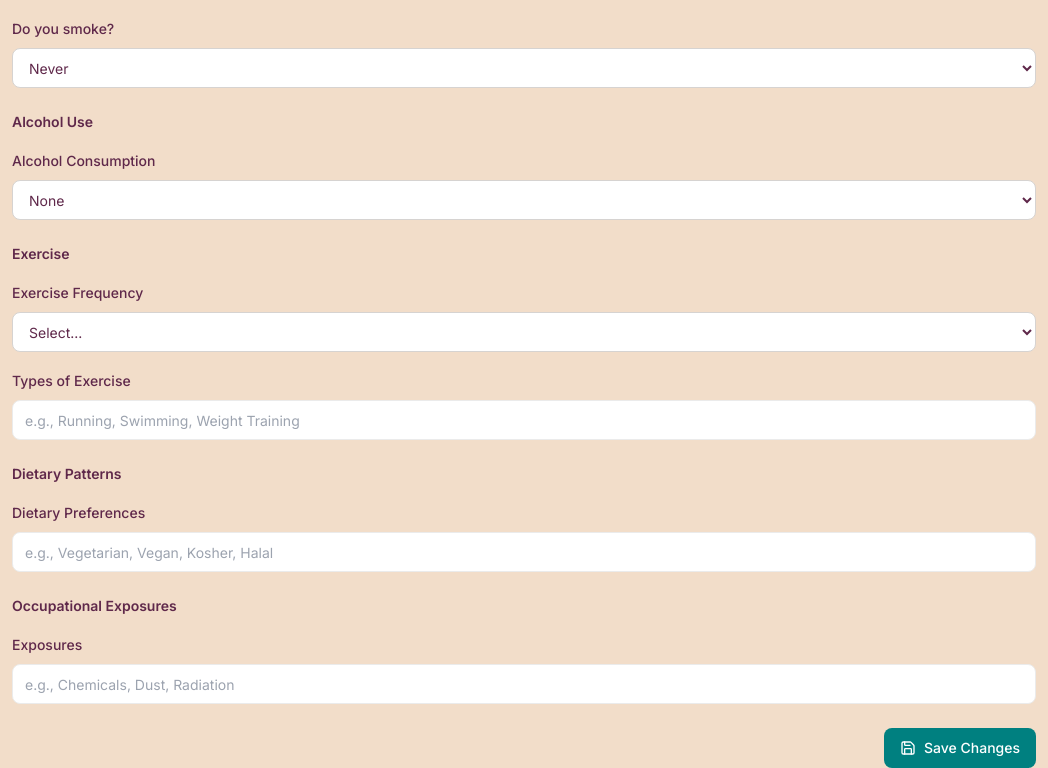
Test: LifestyleForm › Save Functionality › should show loading state while saving
(page scrolled)
Click the button "Save Changes" at (960, 748), box [884, 728, 1036, 767]
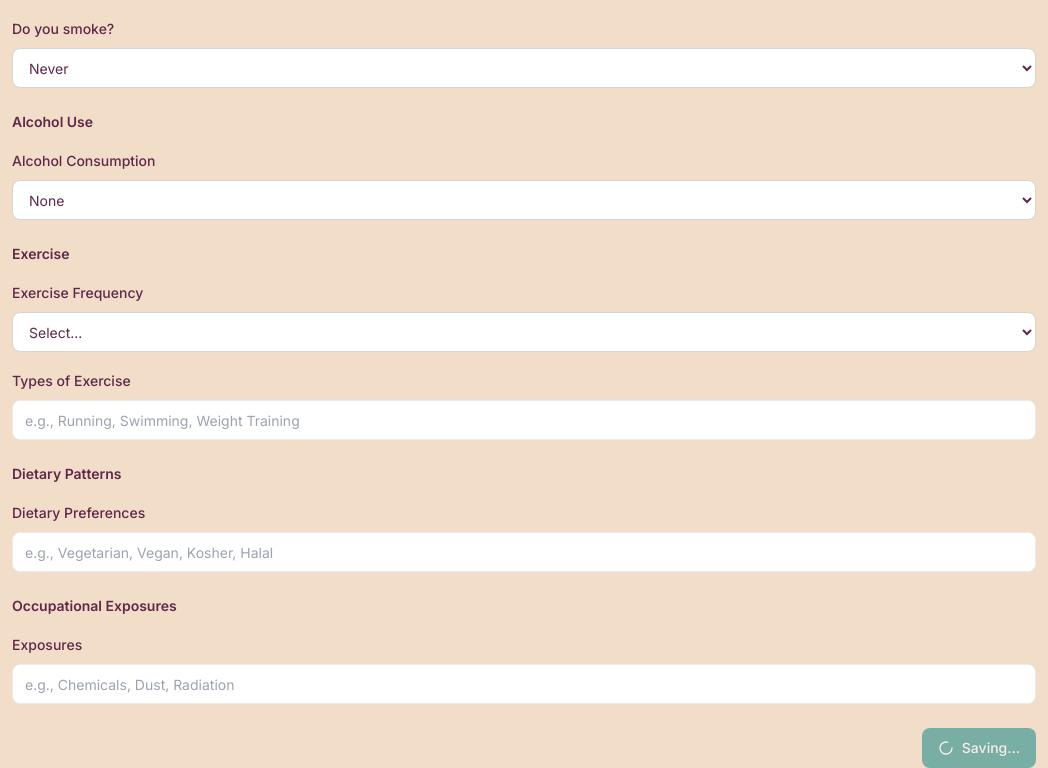
Now the button "Saving..." is disabled, box [922, 728, 1036, 767]
